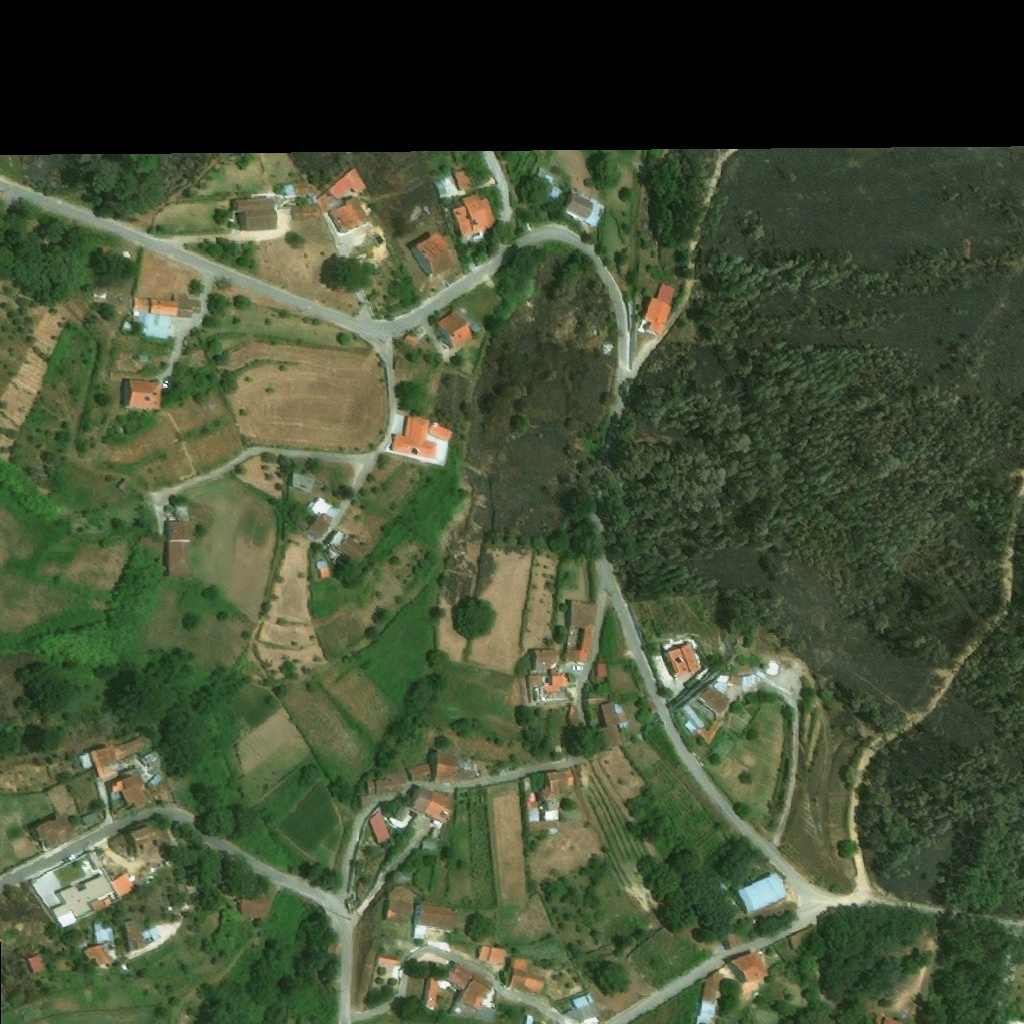0 no-damage: (89, 734, 150, 782), (50, 874, 113, 919), (390, 416, 453, 460), (387, 787, 454, 825), (445, 962, 495, 1011), (410, 233, 457, 279), (737, 872, 788, 913), (564, 601, 596, 663), (452, 194, 496, 238), (641, 285, 676, 339), (411, 904, 458, 941), (561, 193, 604, 230), (110, 771, 149, 811), (406, 752, 458, 782), (231, 198, 278, 231), (166, 519, 193, 574), (32, 816, 74, 851), (435, 312, 474, 349), (507, 958, 545, 995), (328, 198, 368, 233), (535, 771, 576, 804), (665, 642, 702, 677), (329, 529, 367, 563), (122, 920, 162, 952), (726, 953, 770, 982), (696, 970, 720, 1023), (121, 378, 163, 408), (527, 673, 568, 703), (317, 178, 351, 210), (599, 702, 622, 749), (364, 772, 409, 796), (679, 703, 707, 737), (294, 514, 332, 538), (787, 926, 820, 951), (83, 942, 116, 967), (133, 297, 178, 315), (700, 686, 729, 713), (237, 896, 270, 918), (369, 811, 391, 843), (341, 168, 367, 195), (174, 293, 202, 318), (382, 900, 413, 922), (141, 749, 166, 774), (698, 720, 723, 745), (530, 649, 558, 671), (476, 944, 505, 965), (564, 1004, 598, 1021), (422, 978, 438, 1009), (454, 170, 475, 193), (93, 922, 115, 943), (110, 873, 132, 894), (571, 992, 594, 1012), (451, 761, 474, 781), (131, 825, 157, 842), (27, 954, 48, 974), (293, 471, 314, 491), (723, 931, 746, 949), (528, 820, 557, 834), (80, 808, 102, 826), (284, 183, 310, 197), (292, 207, 318, 221), (376, 954, 400, 969), (310, 496, 330, 514), (316, 559, 331, 578), (76, 753, 92, 770), (567, 706, 579, 728), (392, 871, 412, 884), (146, 774, 162, 790), (549, 181, 562, 200), (119, 479, 134, 495), (387, 816, 404, 829), (540, 176, 552, 194), (176, 503, 189, 519), (595, 662, 607, 679), (527, 810, 540, 824), (644, 701, 657, 714), (421, 841, 435, 852), (743, 675, 757, 686), (543, 811, 559, 820), (615, 712, 627, 724), (613, 703, 625, 714), (358, 796, 369, 807), (617, 722, 629, 732), (731, 675, 742, 685), (554, 745, 566, 754), (587, 698, 602, 705), (165, 857, 175, 867), (186, 884, 197, 893), (527, 791, 535, 803), (717, 675, 730, 682), (756, 670, 766, 679), (124, 320, 132, 329), (103, 897, 112, 905), (431, 820, 440, 828), (547, 829, 557, 835), (132, 309, 139, 315), (170, 517, 176, 521)
4 un-classified: (871, 1014, 906, 1023), (604, 341, 614, 356), (524, 1014, 534, 1023)
